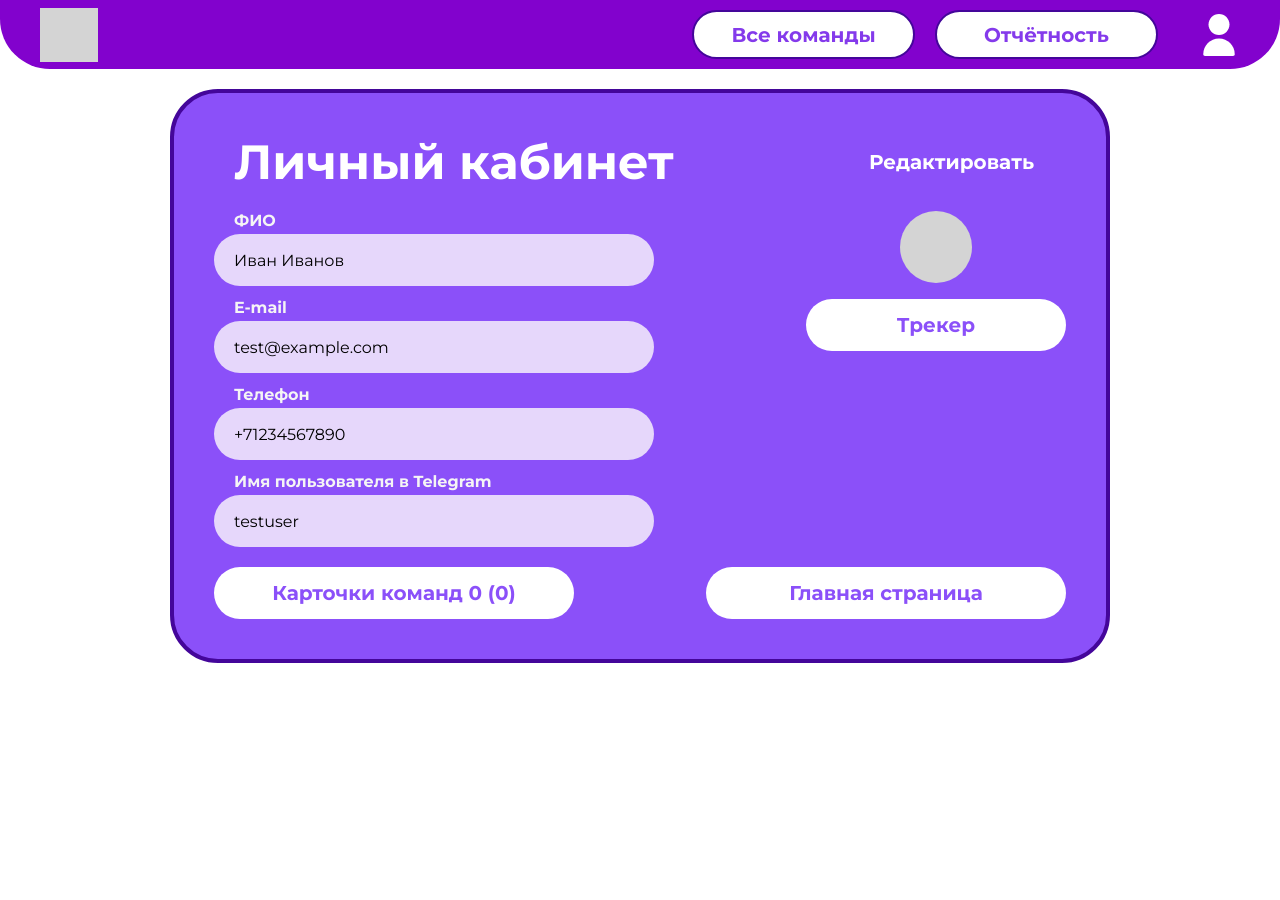
Test case: ProfilePage › validateForm: should show error if fullName is empty
Click the button "Редактировать": (952, 162) [857,133,1046,191]
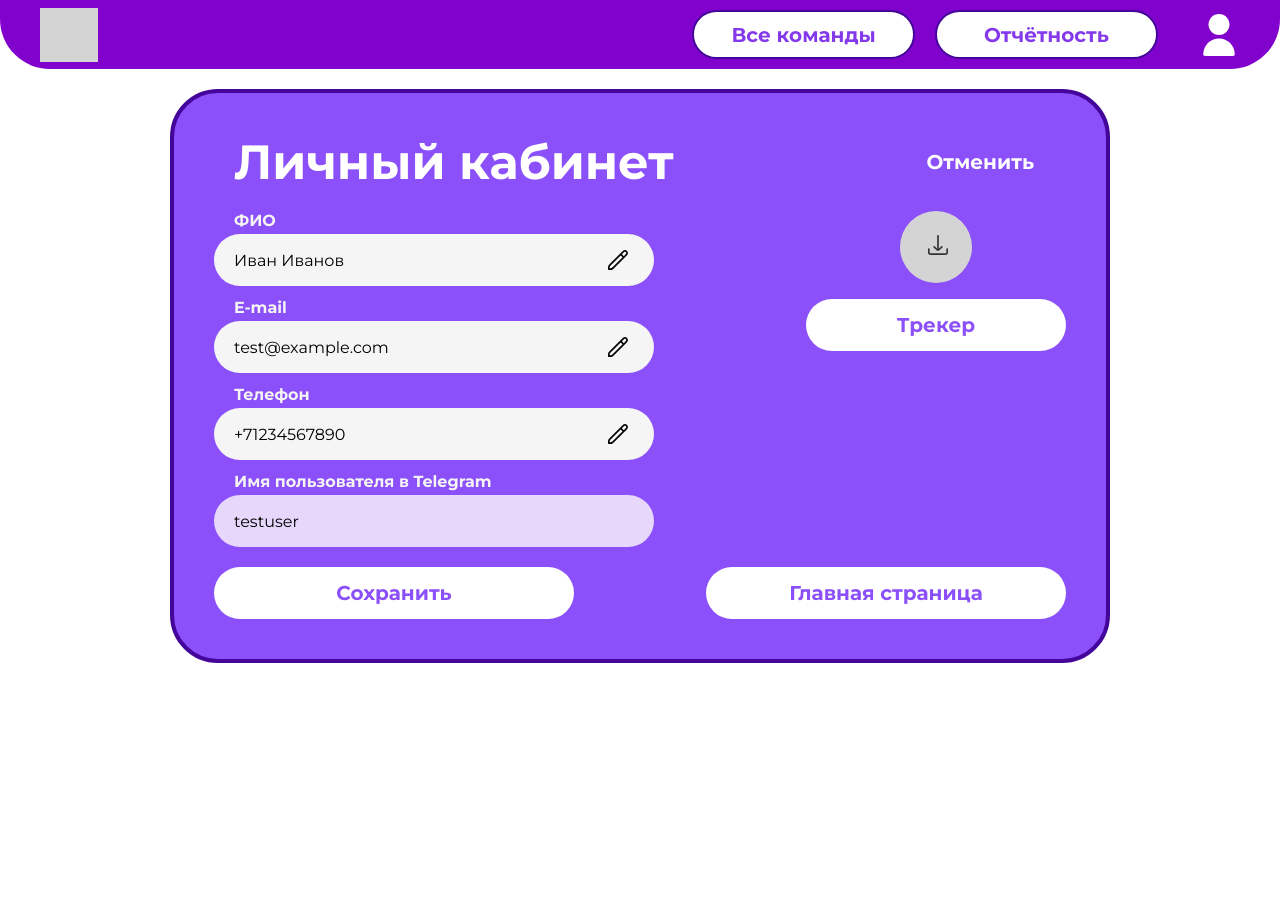
Note: Находим input по значению по умолчанию
Clear the field showing "Иван Иванов": (408, 260) [214,250,603,270]
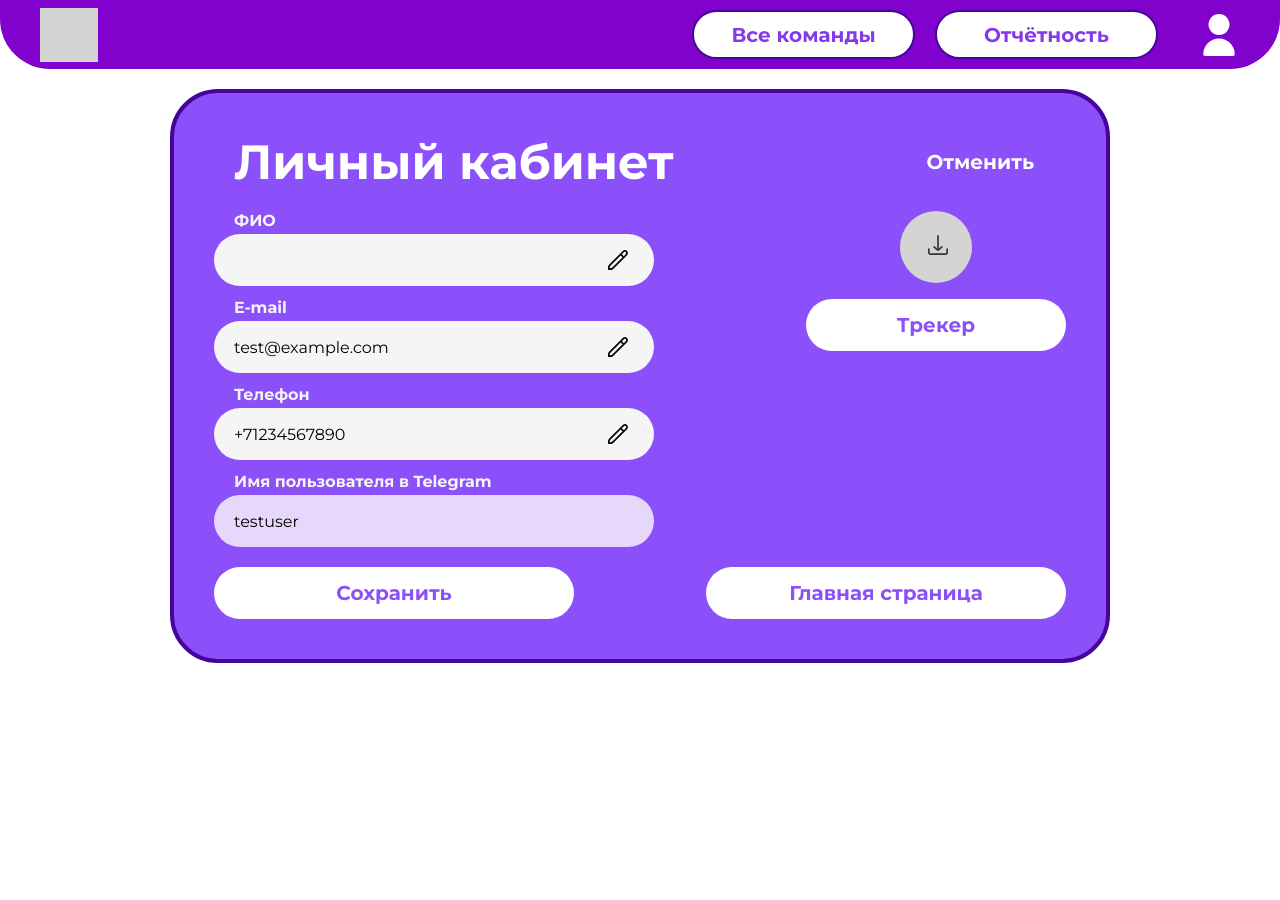
Click the button "Сохранить": (394, 593) [214,567,574,619]
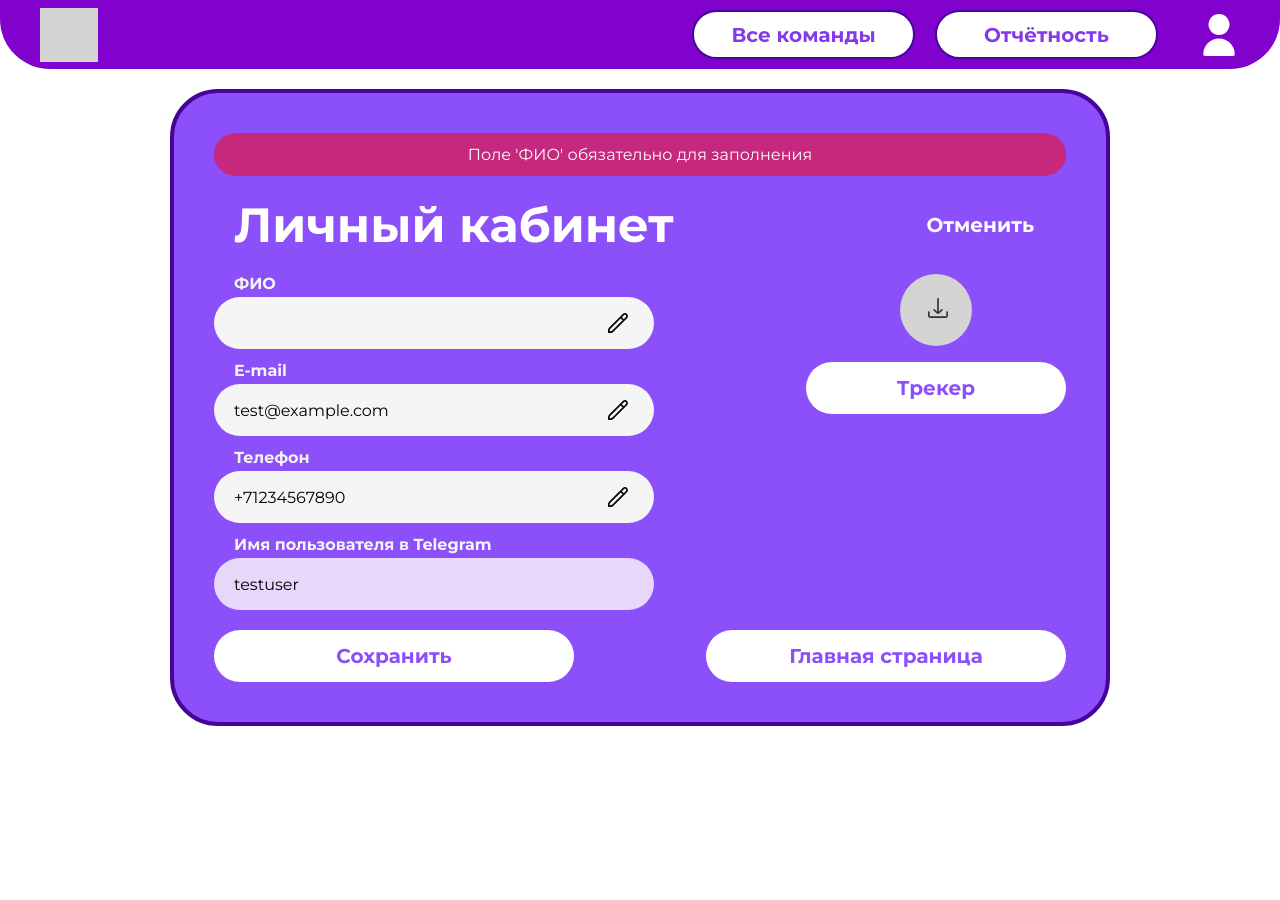
Expected: the text "Поле 'ФИО' обязательно для заполнения" is shown, [214,133,1066,176]
